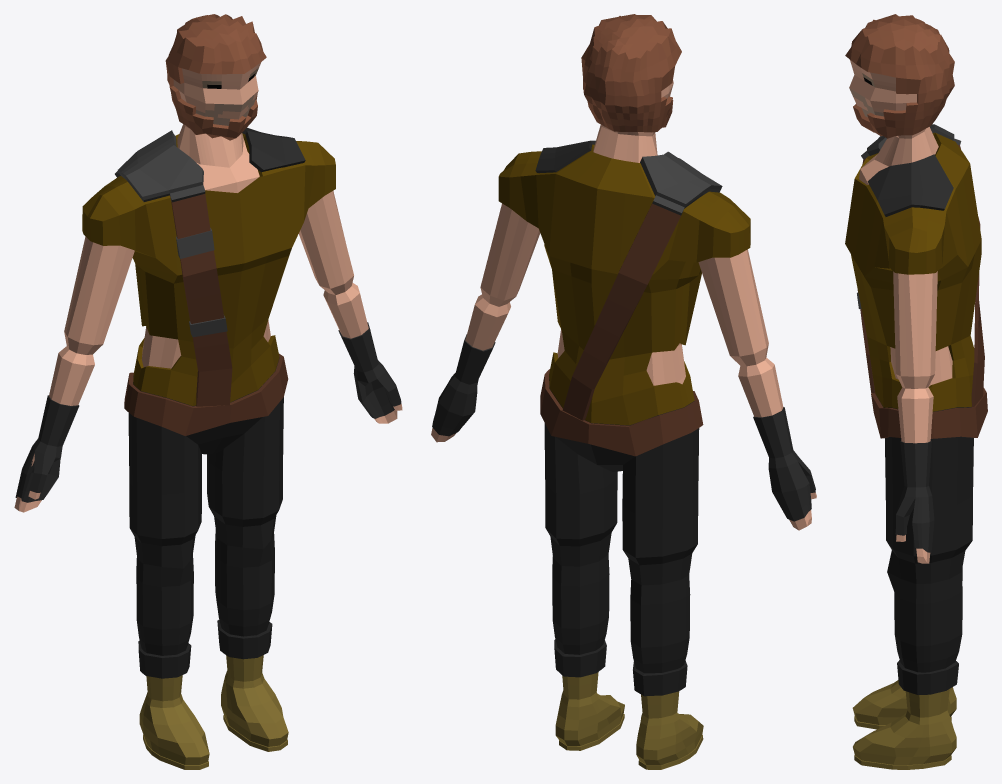
File: Character_Rig_New.fbx
3 views of the same model, side by side, from view 1: azimuth 30°, elevation 25°; view 2: azimuth 150°, elevation 25°; view 3: azimuth 270°, elevation 25° (orthographic).
Parts seen in each view (by area): view 1: Armor_Pants, Armor_Shirt, Character, Armor_Belt_1, Armor_Boots, Character_Hair, Armor_Gloves, Armor_Belt_2; view 2: Armor_Shirt, Armor_Pants, Character, Armor_Belt_1, Character_Hair, Armor_Boots, Armor_Gloves, Armor_Belt_2; view 3: Armor_Shirt, Armor_Pants, Character, Character_Hair, Armor_Boots, Armor_Gloves, Armor_Belt_2, Armor_Belt_1.
Part boxes in pixels (box(x1,y1,x2,y2)): Armor_Pants: box(128, 357, 283, 678); Armor_Shirt: box(82, 127, 335, 405); Character: box(14, 62, 402, 512); Armor_Belt_1: box(115, 130, 232, 406); Armor_Boots: box(139, 655, 288, 769); Character_Hair: box(165, 14, 266, 140); Armor_Gloves: box(15, 322, 401, 502); Armor_Belt_2: box(124, 353, 288, 435); Armor_Shirt: box(498, 140, 750, 425); Armor_Pants: box(544, 377, 699, 696); Character: box(431, 80, 816, 530); Armor_Belt_1: box(562, 151, 722, 420); Character_Hair: box(581, 14, 681, 132); Armor_Boots: box(555, 672, 703, 769); Armor_Gloves: box(432, 334, 815, 521); Armor_Belt_2: box(540, 369, 703, 456); Armor_Shirt: box(845, 132, 981, 411); Armor_Pants: box(876, 395, 973, 694); Character: box(849, 60, 952, 563); Character_Hair: box(845, 14, 954, 138); Armor_Boots: box(852, 680, 956, 769); Armor_Gloves: box(895, 441, 934, 552); Armor_Belt_2: box(871, 387, 987, 438); Armor_Belt_1: box(857, 124, 984, 406).
Size of the model in its own units: 1 by 1.83 by 0.3293.
